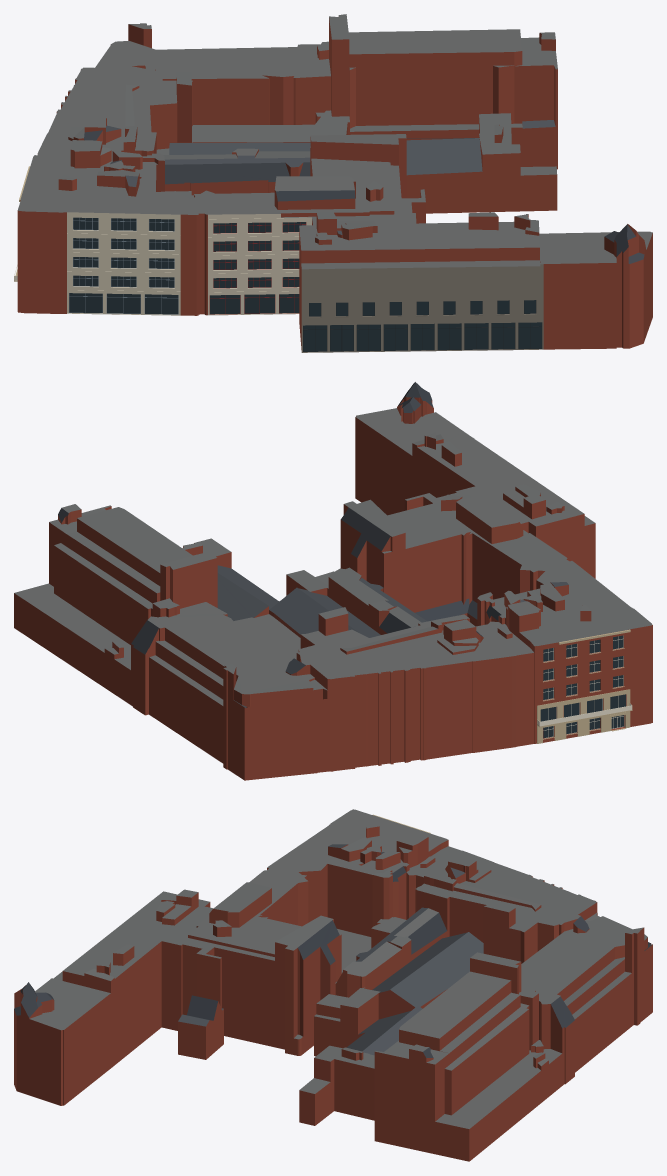
File: recipe-large-pijlsteeg-31-165293.glb
3 renders of one model, top to bottom at view 1: azimuth 30°, elevation 25°; view 2: azimuth 150°, elevation 25°; view 3: azimuth 270°, elevation 25°, orthographic. The views are drawn at different scales.
Visible parts, largest first — view 1: pijlsteeg-31-165293; view 2: pijlsteeg-31-165293; view 3: pijlsteeg-31-165293.
Boxes of the visible parts, x1,y1,x2,y2 form: pijlsteeg-31-165293: [14, 14, 652, 352]; pijlsteeg-31-165293: [14, 382, 652, 780]; pijlsteeg-31-165293: [14, 809, 652, 1161].
Bounding box in the file's own units: 134 × 27.56 × 138.
